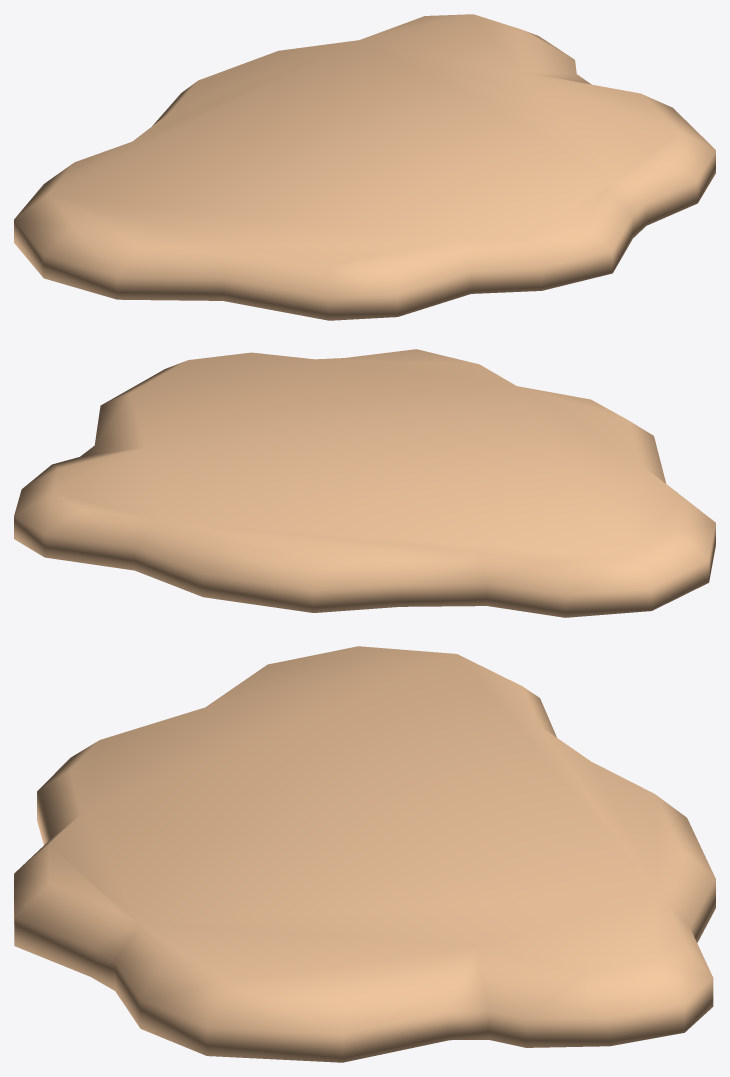
The picture shows the model from 3 angles, top to bottom: view 1: azimuth 30°, elevation 25°; view 2: azimuth 150°, elevation 25°; view 3: azimuth 270°, elevation 25°; orthographic projection. The views are drawn at different scales.
Parts seen in each view (by area): view 1: patch-sand.001; view 2: patch-sand.001; view 3: patch-sand.001.
Boxes of the visible parts, x1,y1,x2,y2 form: patch-sand.001: (14,14,715,320); patch-sand.001: (14,349,715,617); patch-sand.001: (14,646,715,1062).
Size of the model in its own units: 61.89 by 4.2 by 48.29.
